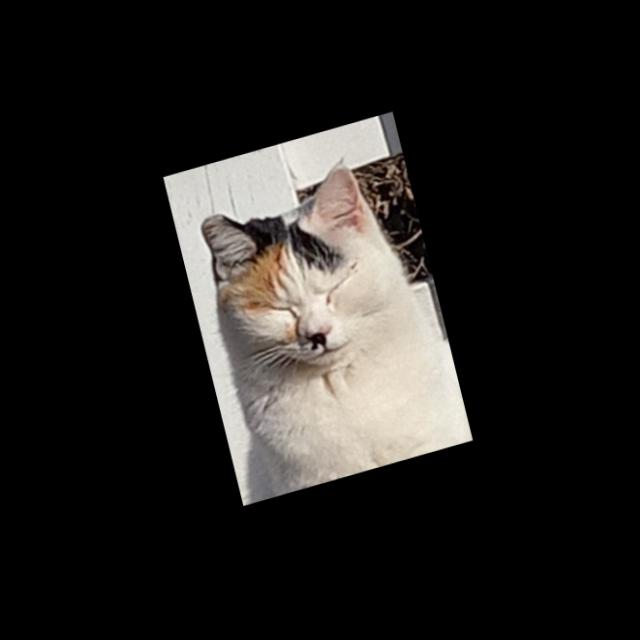animals: (188, 141, 424, 398)
